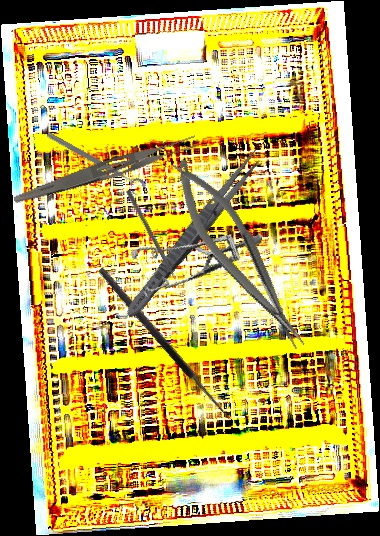Dressing Forceps: (121, 145, 266, 323), (11, 130, 201, 213)
Fixation Ring: (41, 129, 148, 198)
Hook Surgical: (96, 260, 241, 423)
Needle Holder: (161, 149, 314, 362)
Pusher: (124, 189, 183, 291)
Speculum: (120, 200, 263, 325)
